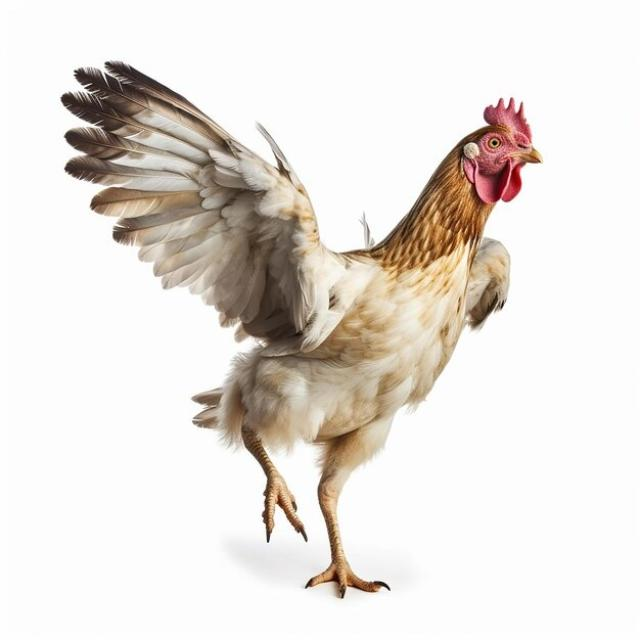Chicken: (59, 59, 543, 600)
